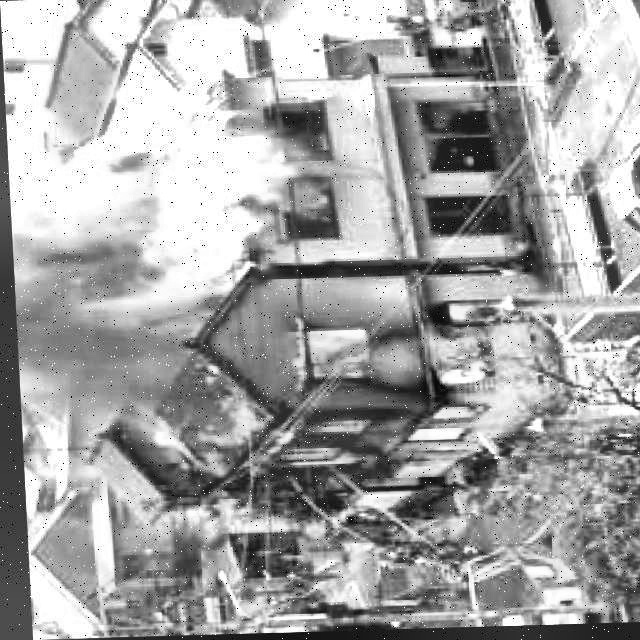Fire: (180, 297, 511, 479), (78, 171, 160, 277), (291, 183, 335, 230)
Smoke: (4, 80, 263, 412)
